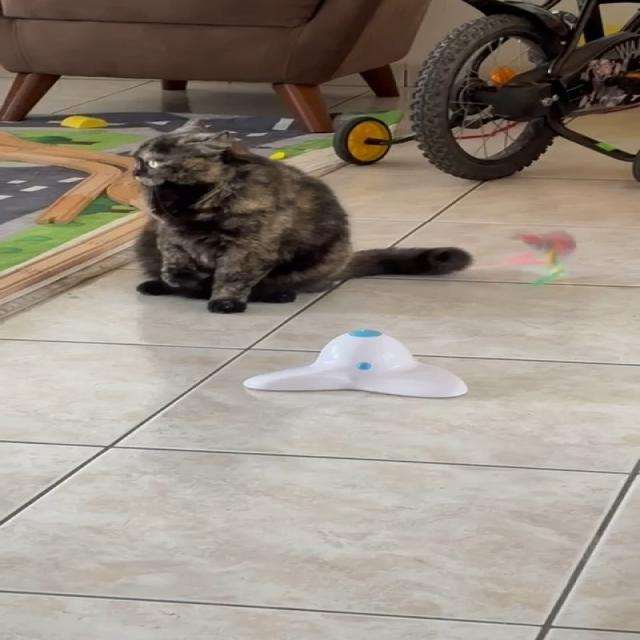authorized: (128, 117, 475, 313)
